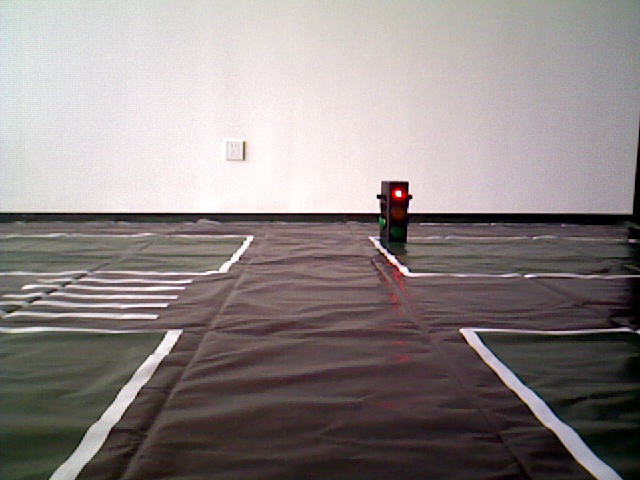red: (379, 182, 407, 248)
